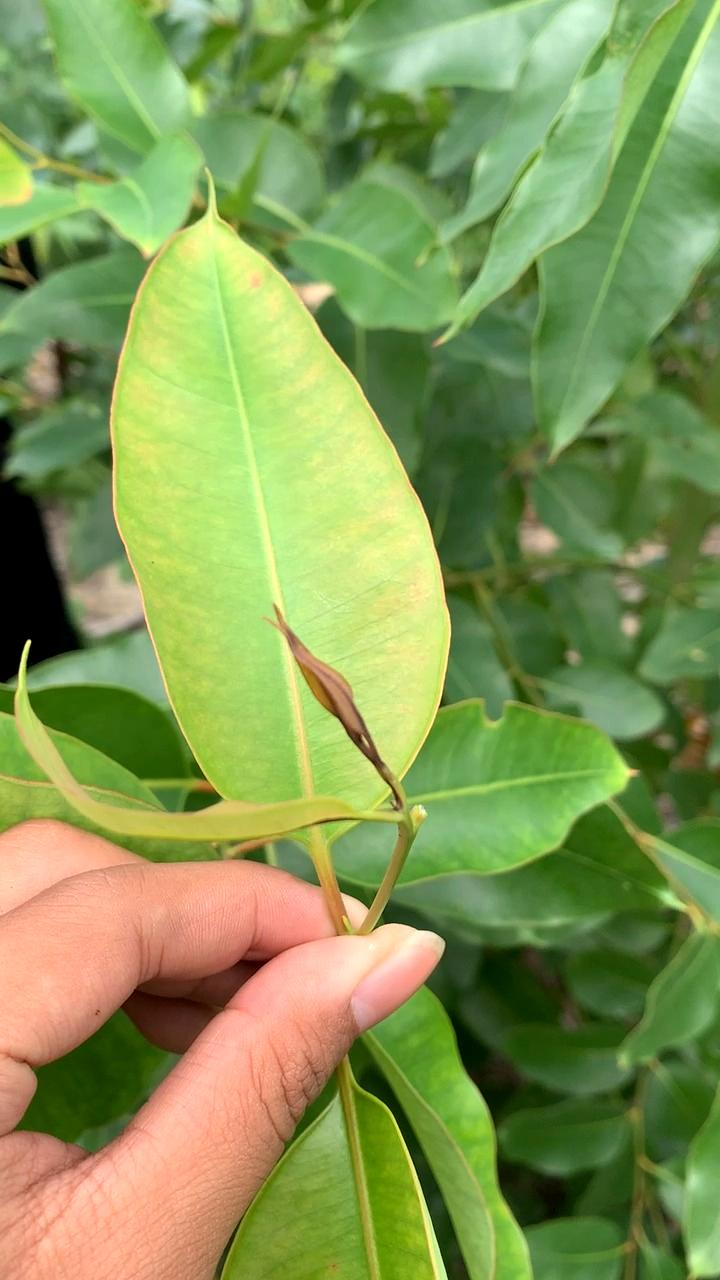Helopeltis-Withered Sprout: (248, 588, 431, 825)
